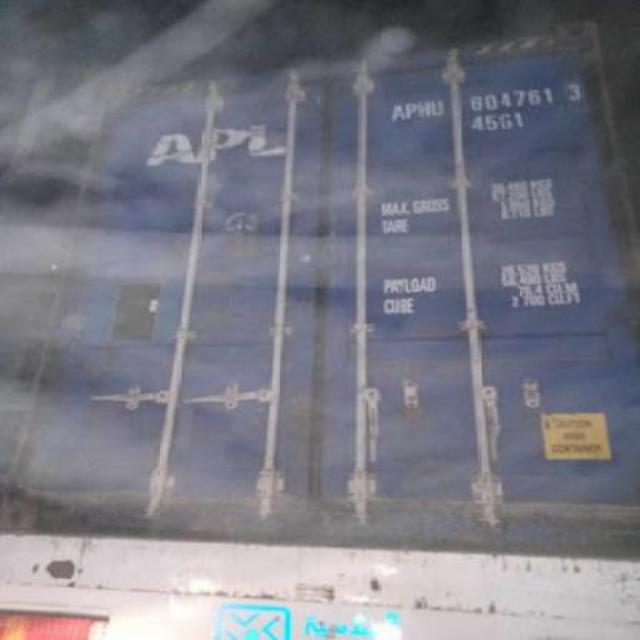0: (484, 92, 498, 112)
1: (542, 87, 558, 105)
3: (568, 82, 586, 102)
4: (498, 92, 512, 110)
6: (468, 94, 484, 114), (528, 90, 542, 108)
7: (512, 90, 528, 108)
A: (388, 102, 404, 122)
H: (418, 100, 432, 118)
P: (402, 100, 418, 120)
U: (432, 98, 444, 118)
